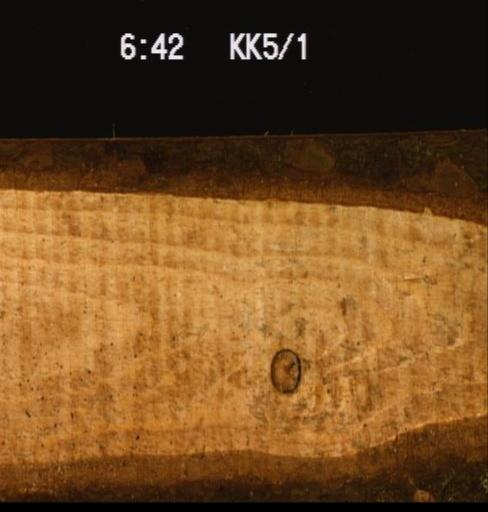dry_knot: (267, 346, 300, 393)
wave: (0, 127, 486, 222), (0, 411, 486, 501)
